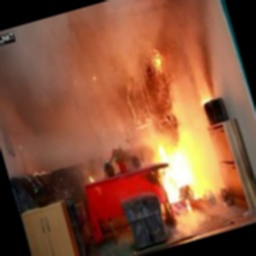fire: (139, 115, 226, 215)
